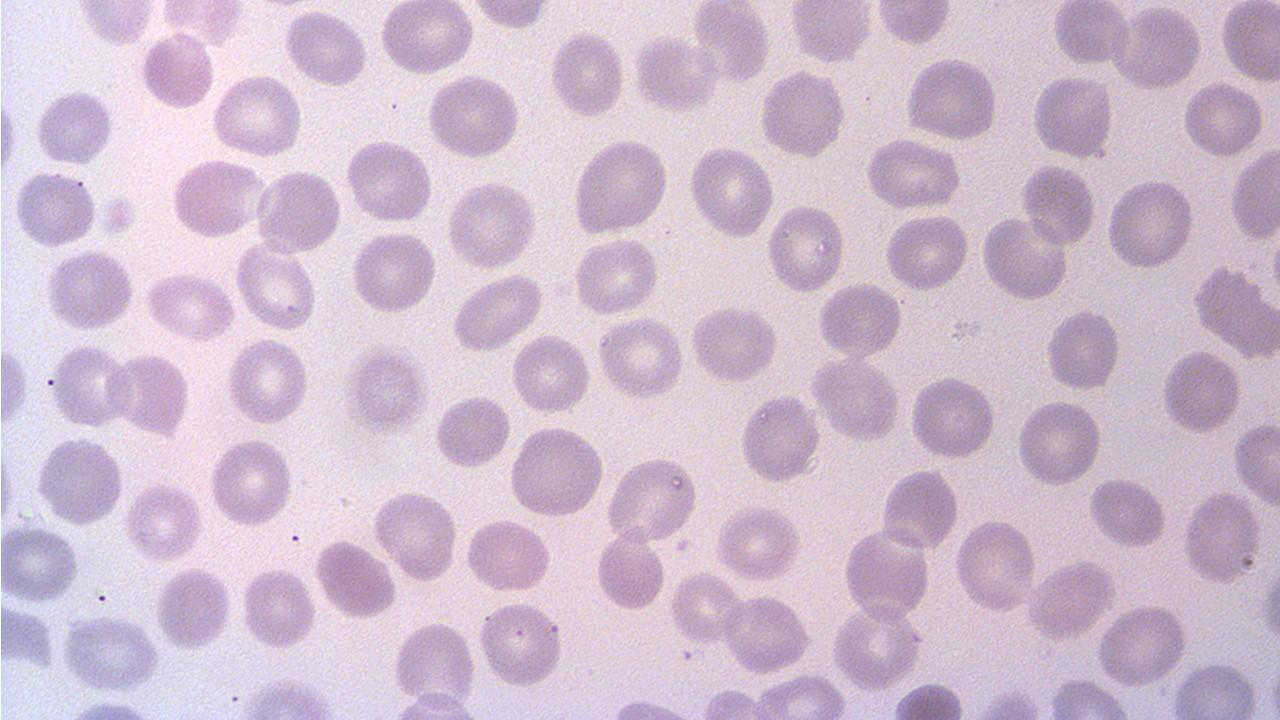Platelets: (99, 191, 141, 240)
RBC: (570, 135, 670, 237), (507, 423, 606, 519), (839, 523, 932, 625), (424, 72, 525, 161), (1104, 176, 1198, 270), (34, 433, 126, 529), (444, 177, 539, 269), (604, 454, 699, 546), (757, 65, 847, 162), (1021, 555, 1117, 645), (828, 602, 925, 691), (343, 342, 432, 439), (392, 616, 480, 714), (687, 142, 774, 241), (952, 516, 1038, 616), (168, 156, 266, 242), (902, 54, 1000, 140), (980, 212, 1072, 303), (372, 488, 461, 582), (477, 596, 566, 690), (208, 72, 305, 158), (233, 236, 319, 333), (253, 165, 343, 257), (808, 355, 902, 443), (1093, 602, 1189, 688), (1179, 490, 1265, 586), (208, 434, 294, 530), (1111, 2, 1201, 93), (1015, 396, 1103, 489), (61, 612, 160, 694), (224, 334, 310, 428), (738, 390, 820, 488), (597, 313, 687, 402), (448, 272, 546, 353), (908, 371, 996, 461), (342, 138, 434, 224), (350, 228, 438, 317), (44, 247, 135, 333), (630, 31, 722, 116), (720, 592, 814, 675), (765, 200, 846, 296), (688, 302, 782, 383), (377, 0, 477, 76), (1158, 347, 1242, 437), (112, 348, 193, 441), (1029, 72, 1115, 159), (882, 210, 971, 294), (48, 340, 131, 430), (711, 502, 804, 582), (861, 137, 962, 210), (572, 235, 662, 316), (548, 27, 626, 120), (312, 536, 397, 621), (880, 463, 960, 553), (464, 515, 554, 595), (123, 478, 206, 564), (280, 7, 368, 88), (154, 563, 233, 653), (239, 562, 318, 652), (141, 270, 238, 343), (1043, 304, 1121, 394), (691, 0, 771, 87), (11, 169, 98, 249), (816, 279, 904, 358), (510, 332, 592, 416), (1181, 78, 1265, 160), (1020, 160, 1098, 248), (0, 522, 81, 603), (34, 86, 116, 166), (432, 390, 512, 471), (140, 28, 216, 110), (594, 528, 668, 612), (1087, 475, 1169, 550), (668, 569, 745, 647), (788, 0, 875, 66), (1169, 658, 1261, 719), (1050, 0, 1130, 67), (1219, 0, 1279, 85), (1227, 147, 1279, 242), (1232, 419, 1280, 509), (752, 673, 850, 717), (74, 0, 157, 49), (873, 1, 954, 47), (889, 678, 969, 719), (0, 339, 31, 432), (464, 0, 556, 30), (0, 442, 18, 527)
WBC: (304, 2, 544, 77), (758, 68, 850, 160)
